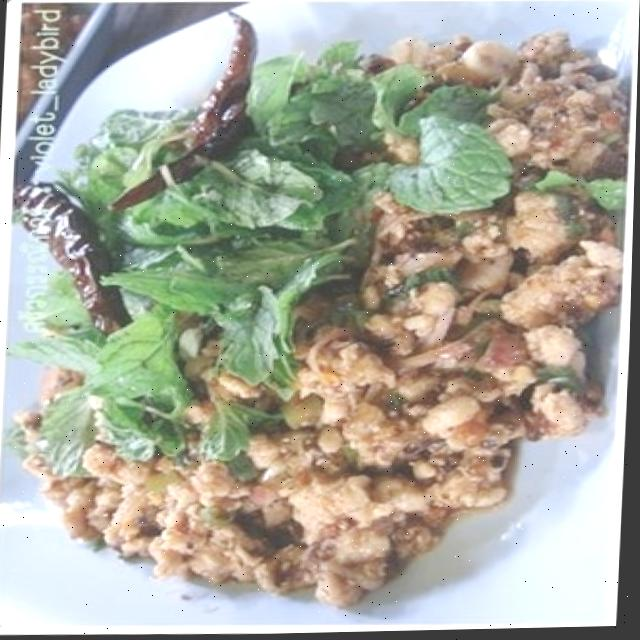鸡肉料理 含炸鸡: (8, 29, 615, 611)
